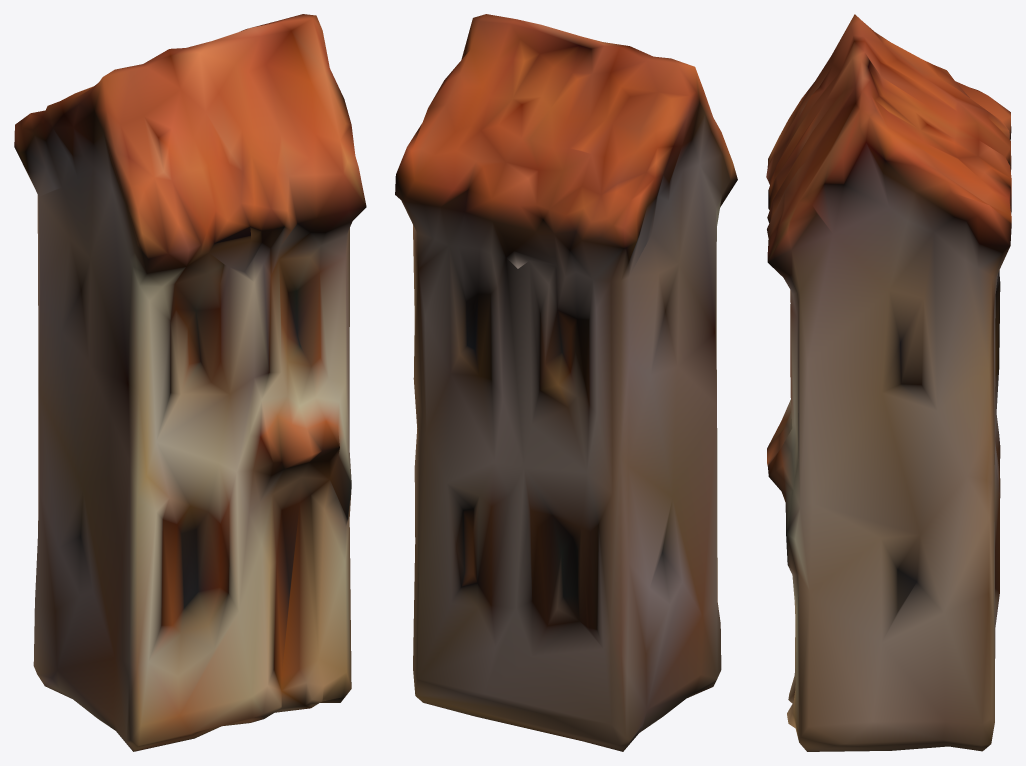
The model's file is tower.glb.
3 renders of one model, left to right at view 1: azimuth 30°, elevation 25°; view 2: azimuth 150°, elevation 25°; view 3: azimuth 270°, elevation 25°, orthographic. The views are drawn at different scales.
Visible parts, largest first — view 1: VillageTowerMesh; view 2: VillageTowerMesh; view 3: VillageTowerMesh.
Part boxes in pixels (x1=…): VillageTowerMesh: x1=14, y1=14, x2=366, y2=751; VillageTowerMesh: x1=395, y1=14, x2=737, y2=751; VillageTowerMesh: x1=766, y1=14, x2=1011, y2=751.
Size of the model in its own units: 2.3 by 6.1 by 2.1.
